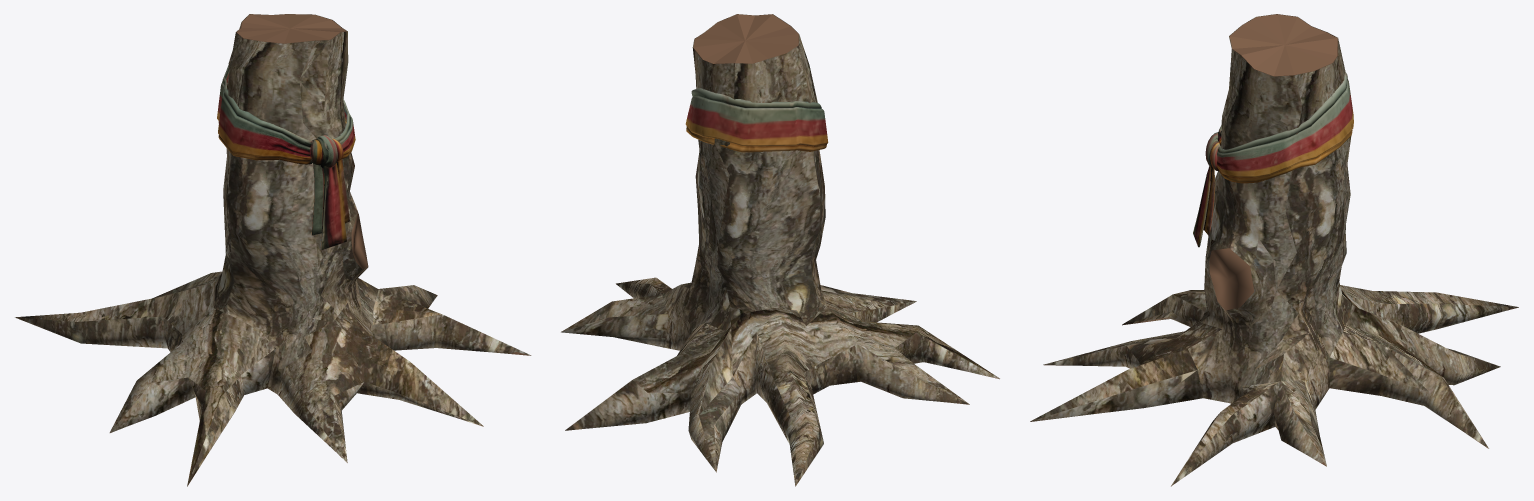
Rendered from Tree_II.fbx.
3 renders of one model, left to right at view 1: azimuth 30°, elevation 25°; view 2: azimuth 150°, elevation 25°; view 3: azimuth 270°, elevation 25°, orthographic. The views are drawn at different scales.
Visible parts, largest first — view 1: tee_II, Torus.002, tee_II.001; view 2: tee_II, Torus.002, tee_II.001; view 3: tee_II, Torus.002, tee_II.001.
Part boxes in pixels (box(x1,y1,x2,y2)): tee_II: box(15, 14, 531, 486); Torus.002: box(217, 65, 355, 249); tee_II.001: box(236, 14, 346, 43); tee_II: box(561, 14, 999, 486); Torus.002: box(685, 88, 828, 152); tee_II.001: box(693, 14, 798, 63); tee_II: box(1030, 14, 1518, 486); Torus.002: box(1193, 72, 1353, 247); tee_II.001: box(1229, 14, 1337, 76).
Size of the model in its own units: 424 by 378 by 441.
